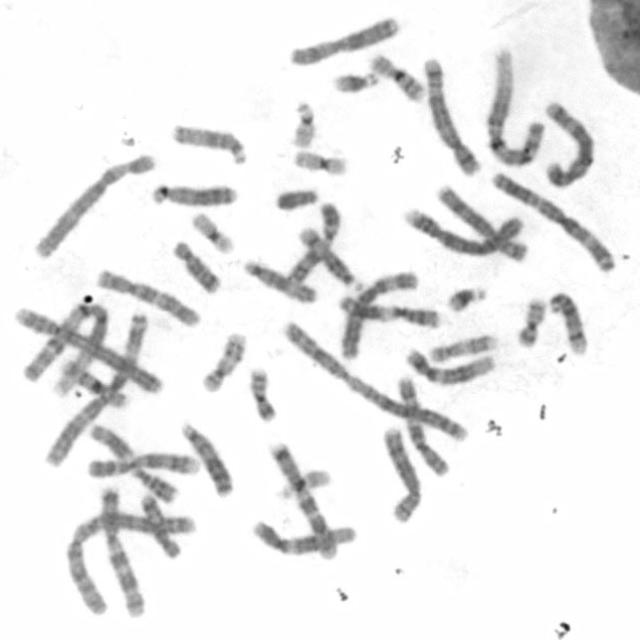A1: (21, 299, 111, 398), (480, 43, 547, 168)
A2: (278, 317, 472, 443), (61, 507, 199, 614)
A3: (39, 311, 156, 472), (487, 167, 618, 273)
B4: (12, 302, 168, 396), (399, 203, 530, 261)
B5: (420, 52, 482, 178), (538, 96, 596, 189)
C10: (93, 264, 204, 329), (394, 371, 451, 479)
C11: (84, 419, 180, 505), (335, 290, 443, 330)
C12: (247, 515, 357, 558), (400, 344, 495, 387)
C6: (29, 147, 158, 260), (336, 267, 421, 361)
C7: (262, 436, 339, 562), (93, 483, 151, 622)
C8: (432, 180, 531, 263), (378, 423, 424, 525)
C9: (282, 198, 343, 286), (81, 448, 201, 478)
D13: (177, 418, 235, 498), (147, 180, 240, 210)
D14: (294, 224, 363, 291), (544, 288, 588, 356)
D15: (239, 255, 320, 305), (168, 120, 249, 167)
E16: (56, 356, 130, 409), (366, 48, 427, 104)
E17: (198, 329, 250, 394), (426, 328, 499, 364)
E18: (136, 489, 182, 560), (169, 237, 223, 296)
F19: (189, 209, 237, 255), (290, 146, 351, 178)
F20: (245, 364, 279, 424), (514, 294, 548, 350)
G21: (443, 280, 488, 315), (328, 66, 379, 95)
G22: (273, 465, 334, 500), (288, 97, 320, 149)
X: (285, 13, 401, 68)
Y: (270, 184, 320, 213)
